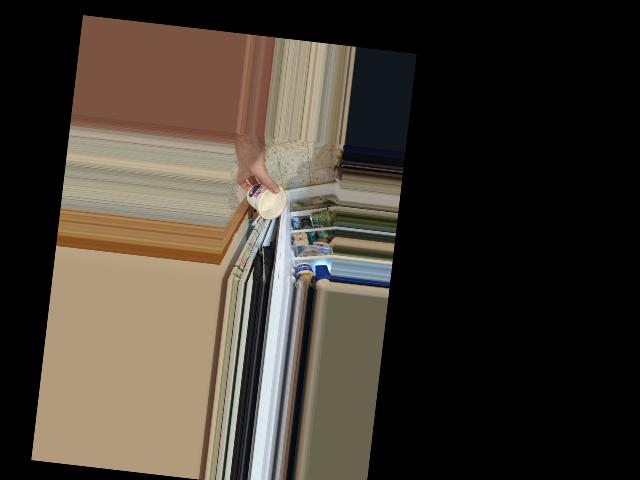cotage: (240, 176, 288, 222)
